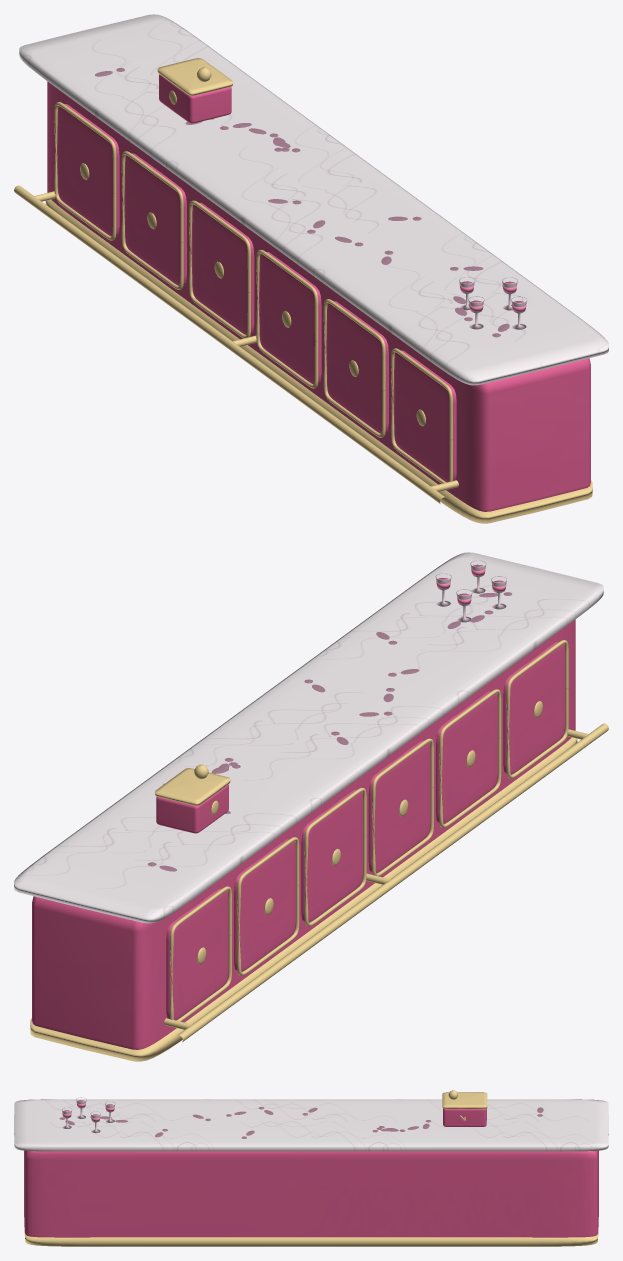
File: citadel_party_bar.glb
The picture shows the model from 3 angles, top to bottom: view 1: azimuth 30°, elevation 25°; view 2: azimuth 150°, elevation 25°; view 3: azimuth 270°, elevation 25°; orthographic projection. The views are drawn at different scales.
Visible parts, largest first — view 1: Marble_Top, Lacquer_Pink, Gilt, Shoe_Scuff, Glass_Rose; view 2: Marble_Top, Lacquer_Pink, Gilt, Shoe_Scuff, Glass_Rose; view 3: Lacquer_Pink, Marble_Top, Gilt, Shoe_Scuff, Glass_Rose.
Boxes of the visible parts, left/top/right/bottom form: Marble_Top: left=19, top=14, right=608, bottom=385; Lacquer_Pink: left=47, top=74, right=590, bottom=511; Gilt: left=14, top=58, right=592, bottom=523; Shoe_Scuff: left=95, top=68, right=509, bottom=337; Glass_Rose: left=459, top=277, right=526, bottom=329; Marble_Top: left=14, top=552, right=603, bottom=923; Lacquer_Pink: left=32, top=619, right=575, bottom=1049; Gilt: left=30, top=640, right=608, bottom=1061; Shoe_Scuff: left=147, top=592, right=511, bottom=871; Glass_Rose: left=435, top=560, right=506, bottom=622; Lacquer_Pink: left=24, top=1108, right=598, bottom=1237; Marble_Top: left=14, top=1099, right=608, bottom=1151; Gilt: left=24, top=1090, right=598, bottom=1246; Shoe_Scuff: left=59, top=1107, right=543, bottom=1138; Glass_Rose: left=62, top=1097, right=115, bottom=1133.
Size of the model in its own units: 1.28 by 1.55 by 6.21.
6 materials, 2 textured.
